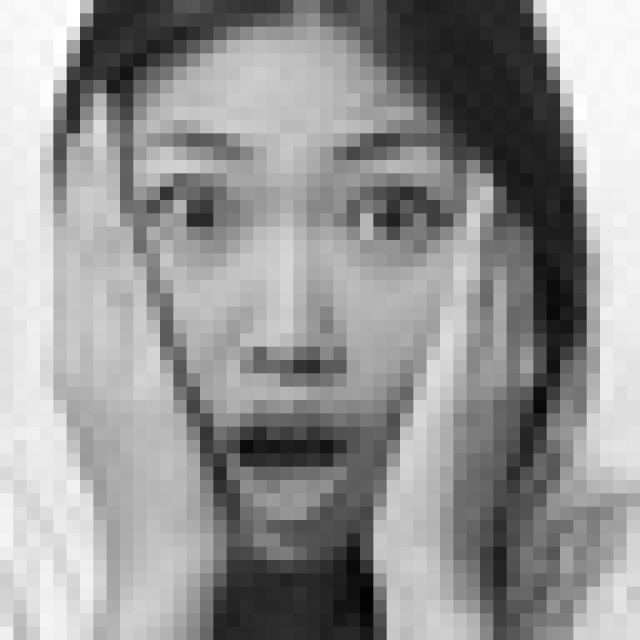surprise: (132, 118, 476, 536)
